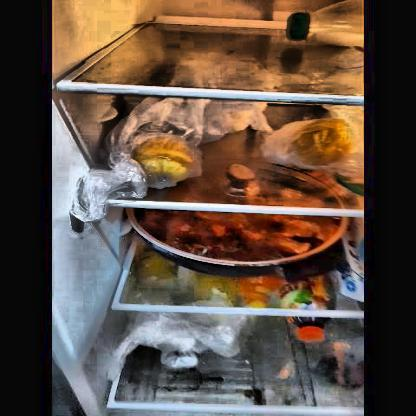lemon: (124, 132, 204, 184), (294, 118, 360, 167)
